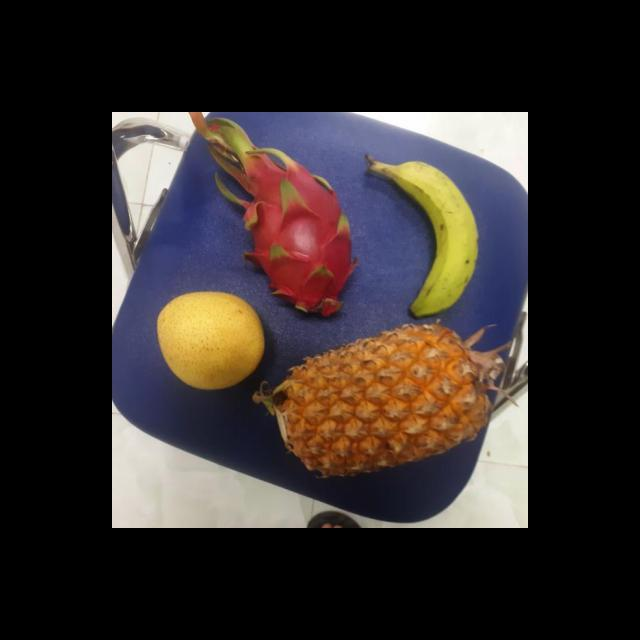banana: (374, 161, 480, 318)
pear: (156, 293, 272, 389)
pineapple: (268, 324, 496, 474)
pitaya: (230, 158, 360, 318)
